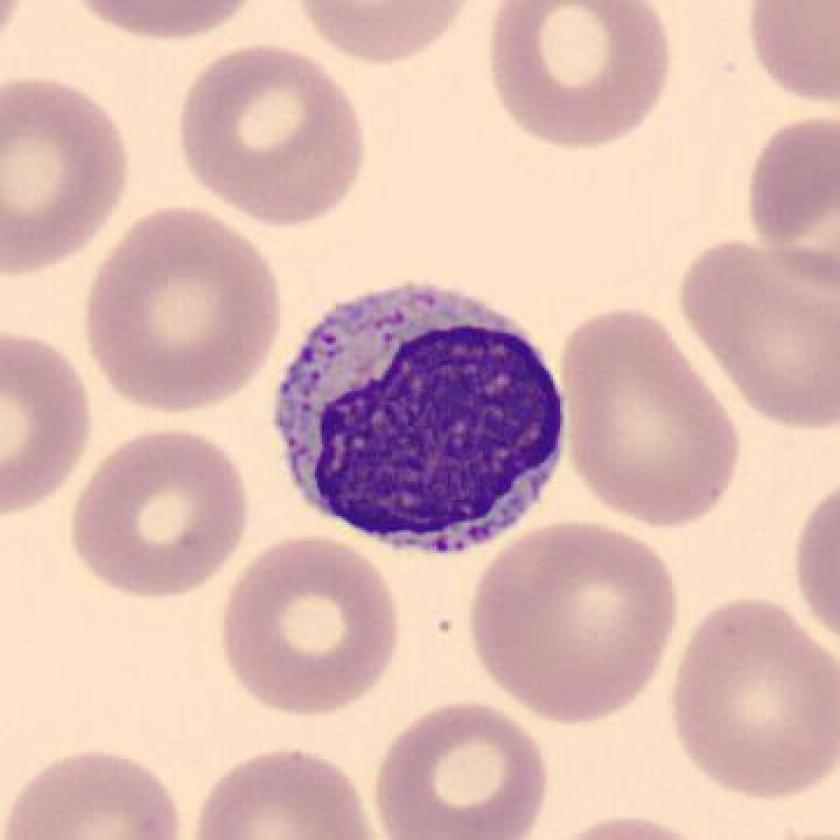lymphocyte: (262, 265, 580, 570)
